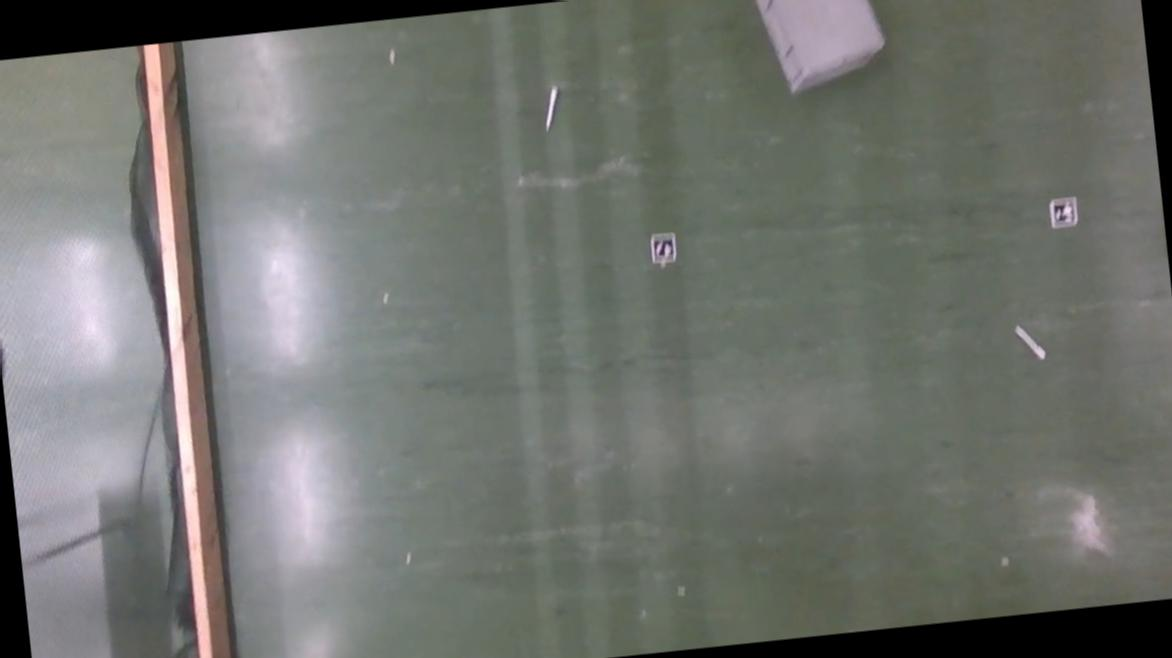probes: (1014, 323, 1045, 363), (540, 88, 560, 132)
rako: (750, 0, 889, 99)
